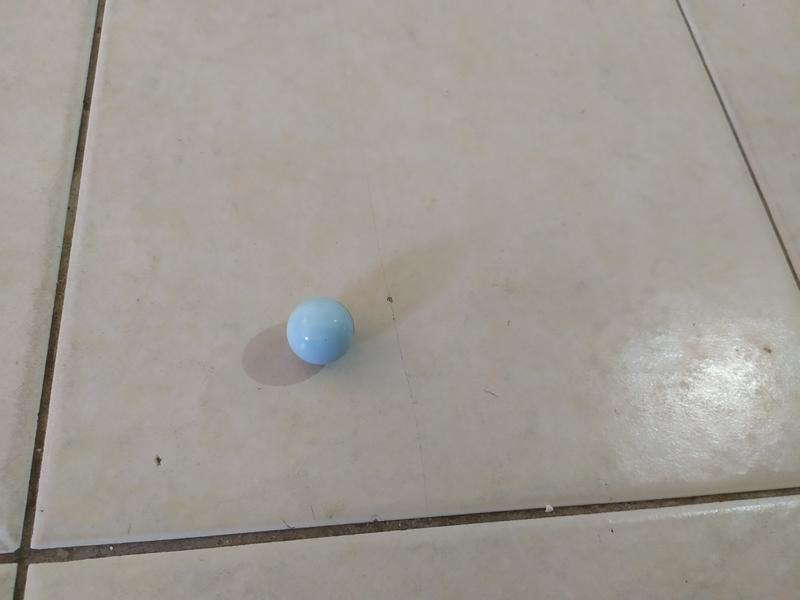Warning: (283, 293, 358, 368)
